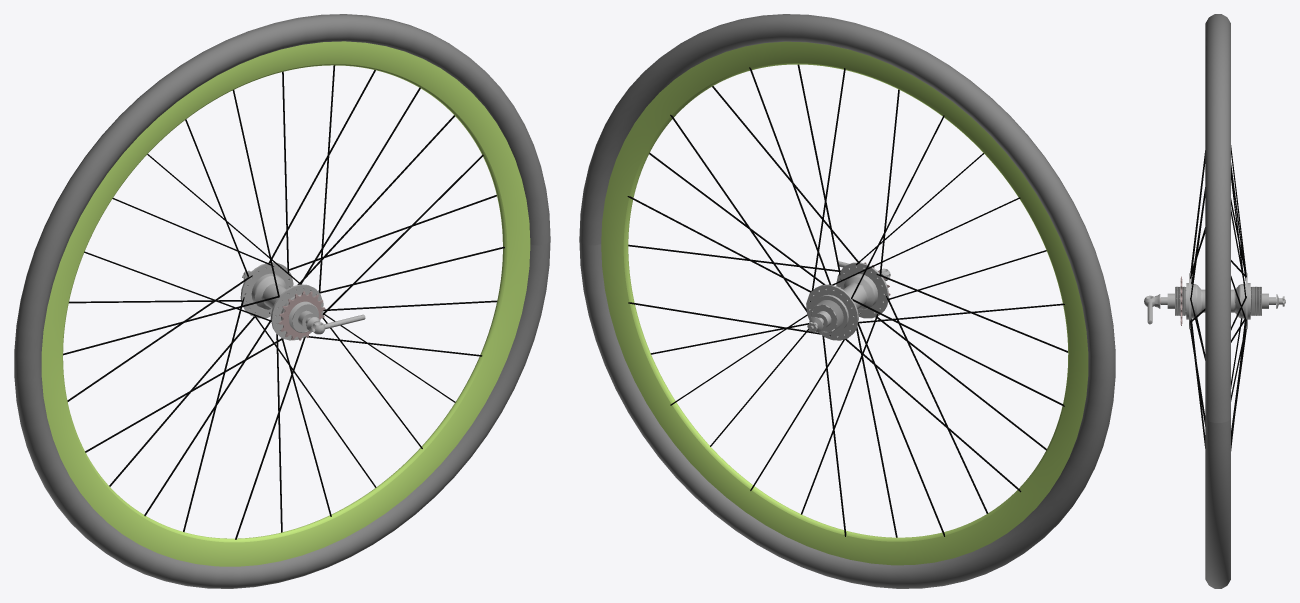
Rendered from Mango_Wheels_MultiSpokes.glb.
3 renders of one model, left to right at view 1: azimuth 30°, elevation 25°; view 2: azimuth 150°, elevation 25°; view 3: azimuth 270°, elevation 25°, orthographic. The views are drawn at different scales.
Parts seen in each view (by area): view 1: no_transformations (×5); view 2: no_transformations (×4); view 3: no_transformations (×3).
Part boxes in pixels (x1,y1,x2,y2): no_transformations (×5): (14,14,550,588); no_transformations (×4): (579,14,1115,588); no_transformations (×3): (1144,14,1285,588).
Bounding box in the file's own units: 699 × 699 × 173.
